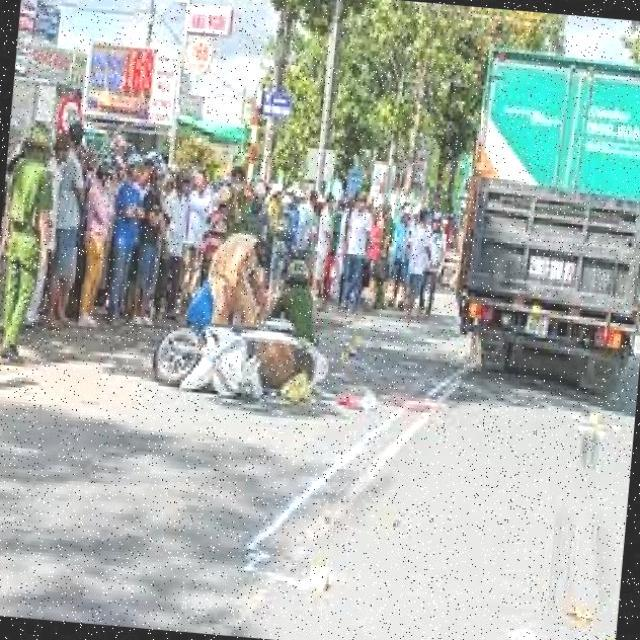accident: (146, 276, 359, 439)
